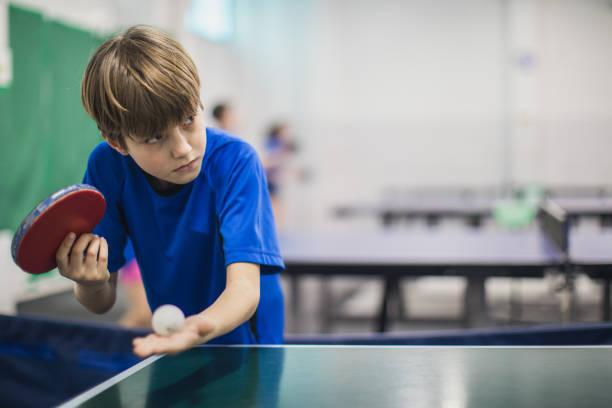ball_pingpong: (149, 304, 186, 338)
